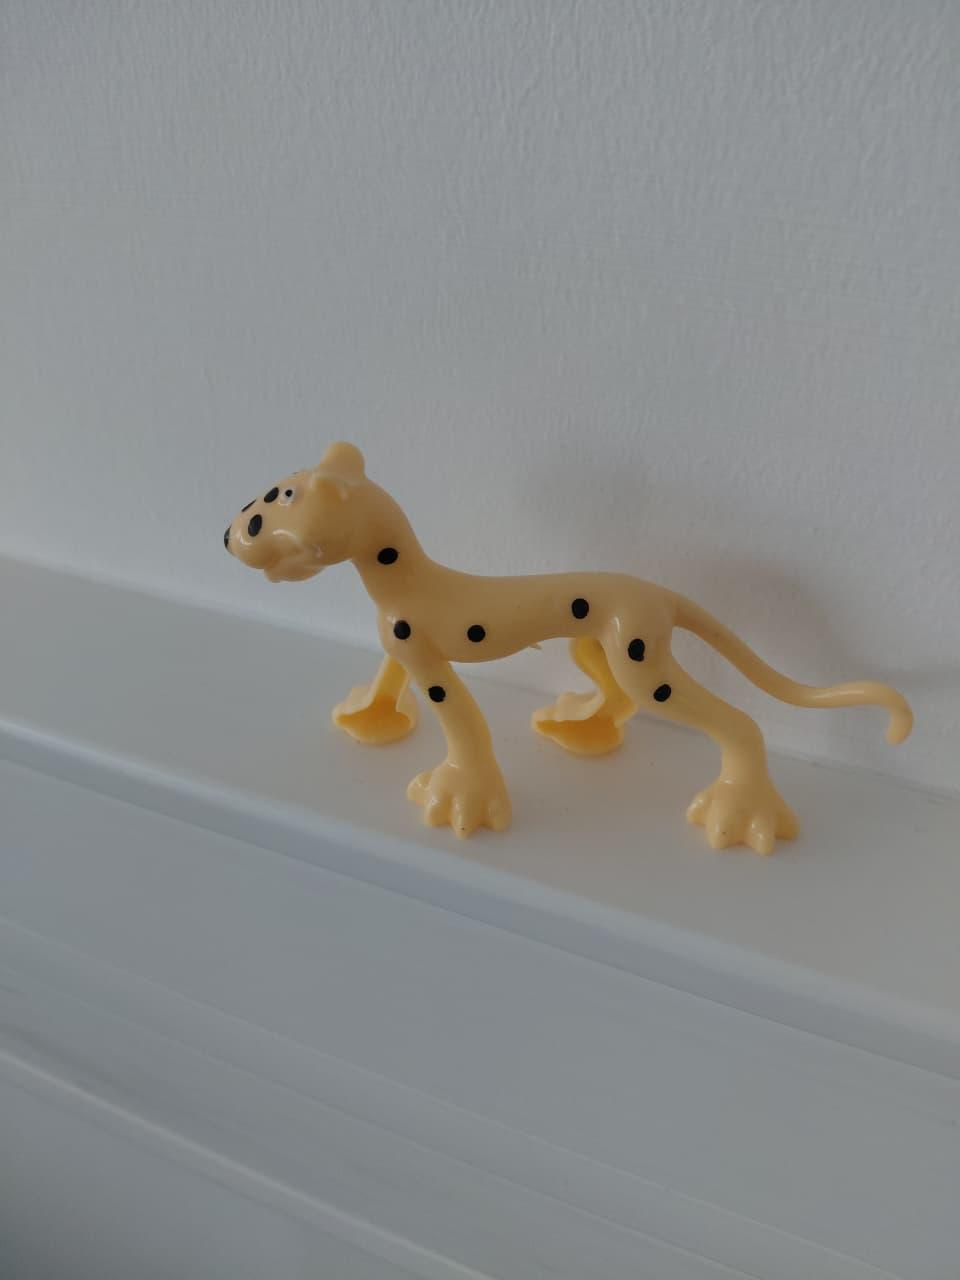cheetah: (205, 388, 924, 954)
